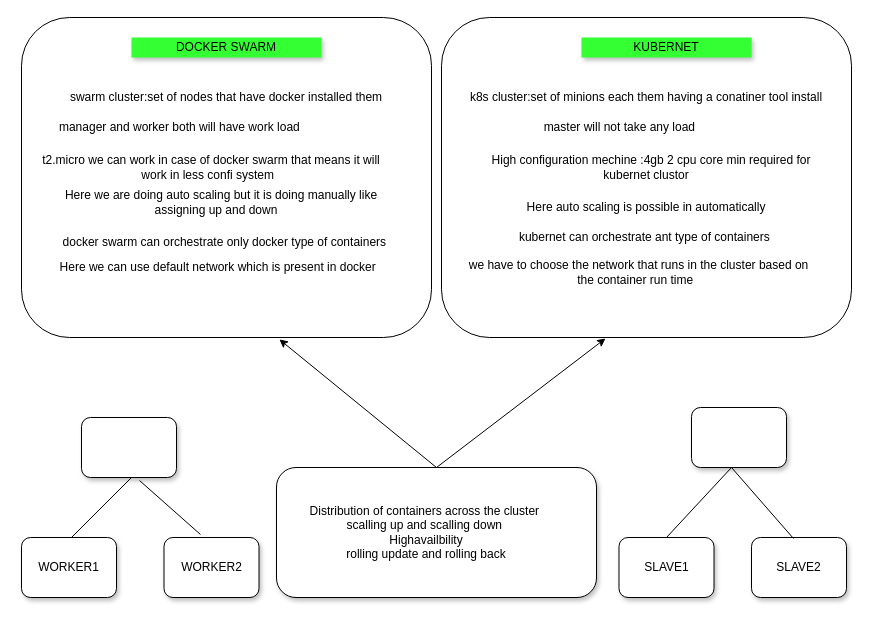
This 870x622 diagram has some shape labels left out. Here are the shapes that lost their labels. From the top down, the centre of each, then its label:
At pixel 129 448: "MANAGER".
At pixel 739 438: "MASTER".
